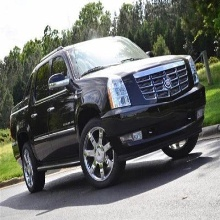no damage: (9, 35, 206, 194)
